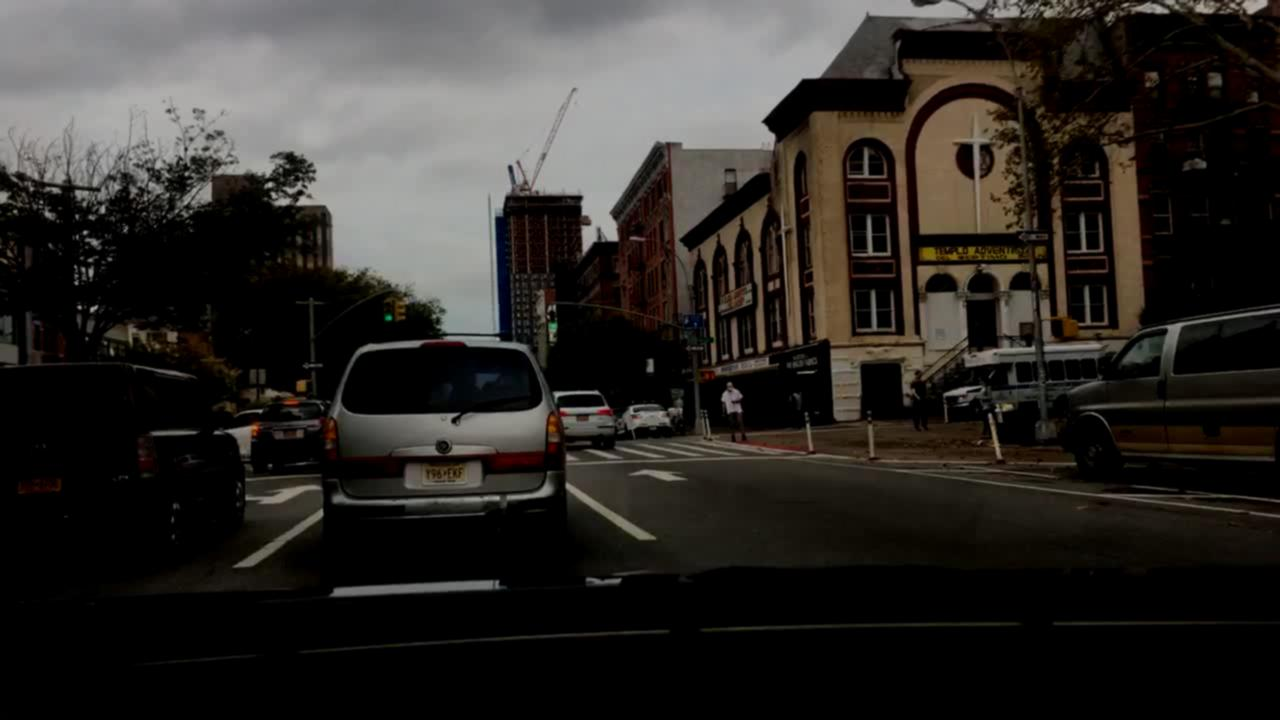Mercury: (433, 434, 456, 458)
Toyota: (27, 440, 51, 458)
